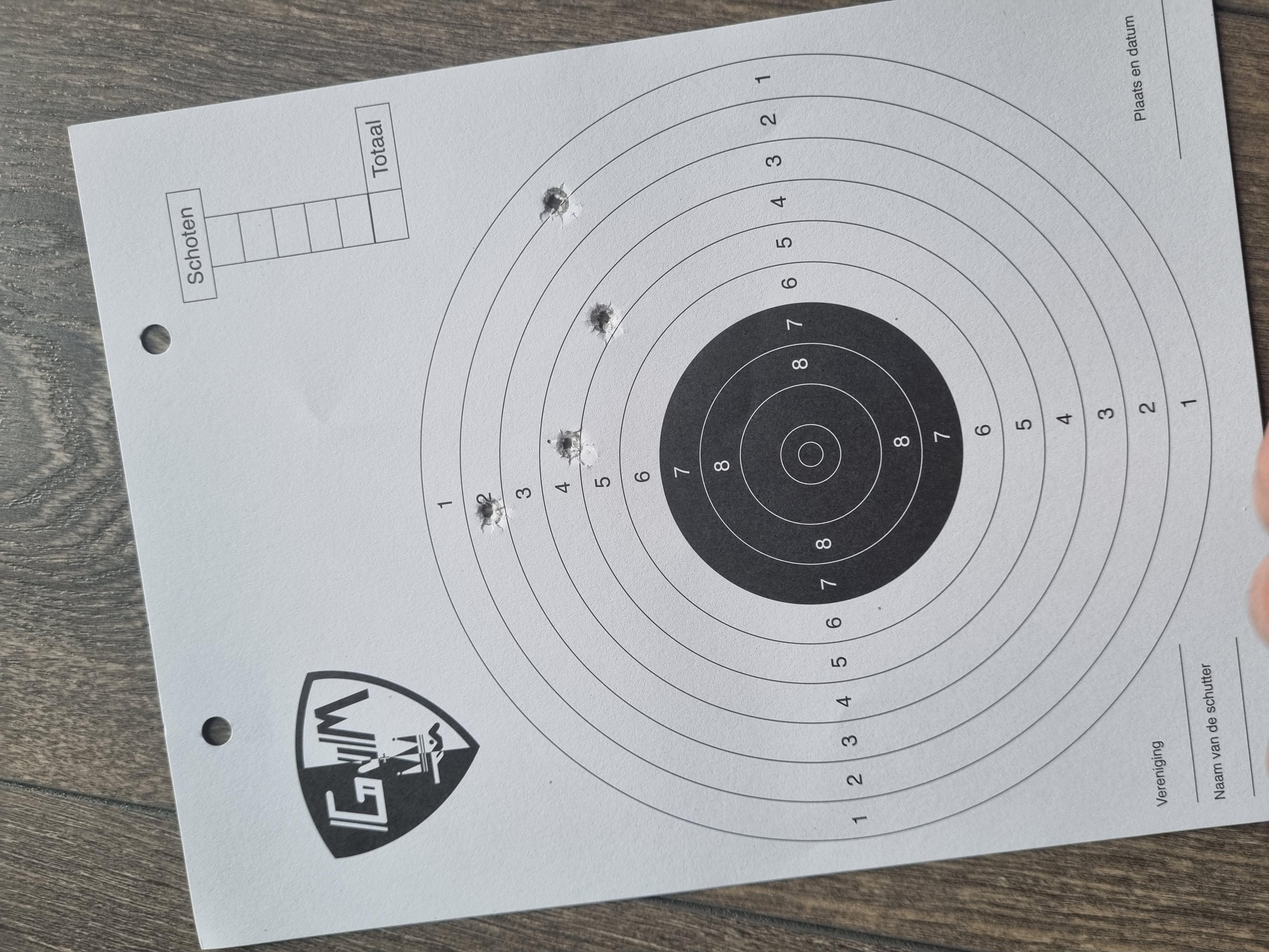hole: (967, 402, 1022, 435), (815, 438, 862, 467), (652, 411, 698, 438), (561, 356, 608, 381)
